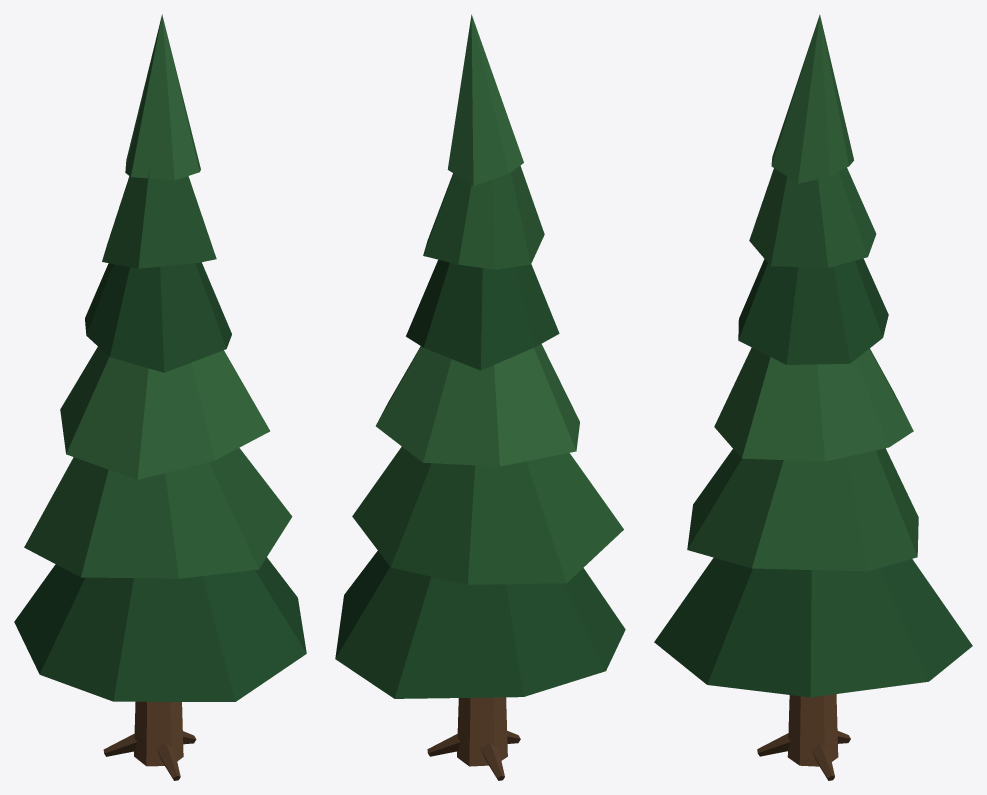
Rendered from pine_2.glb.
The picture shows the model from 3 angles, left to right: view 1: azimuth 30°, elevation 25°; view 2: azimuth 150°, elevation 25°; view 3: azimuth 270°, elevation 25°; orthographic projection.
Parts seen in each view (by area): view 1: Pine2; view 2: Pine2; view 3: Pine2.
Boxes of the visible parts, x1,y1,x2,y2 form: Pine2: (14,14,306,780); Pine2: (335,14,625,780); Pine2: (654,14,972,780).
Size of the model in its own units: 1.44 by 3.98 by 1.52.
